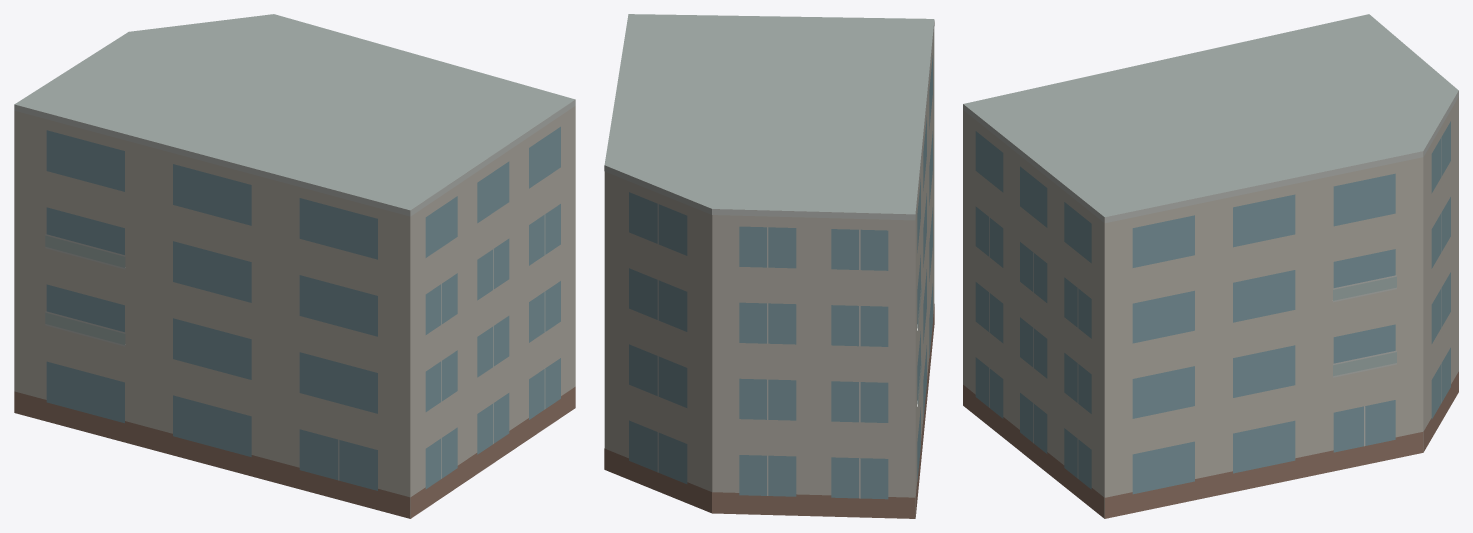
File: survey-upis-32945750.glb
3 views of the same model, side by side, from view 1: azimuth 30°, elevation 25°; view 2: azimuth 150°, elevation 25°; view 3: azimuth 270°, elevation 25° (orthographic). The views are drawn at different scales.
Parts seen in each view (by area): view 1: survey-upis-32945750.tmp; view 2: survey-upis-32945750.tmp; view 3: survey-upis-32945750.tmp.
Boxes of the visible parts, x1,y1,x2,y2 form: survey-upis-32945750.tmp: (14, 14, 575, 518); survey-upis-32945750.tmp: (604, 14, 934, 518); survey-upis-32945750.tmp: (963, 14, 1458, 518).
Size of the model in its own units: 17.65 by 12.2 by 18.18.
